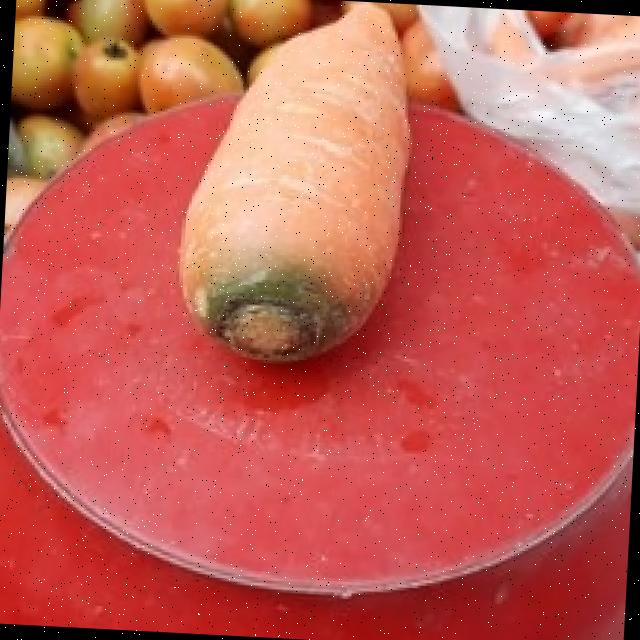carrot: (177, 1, 405, 356)
